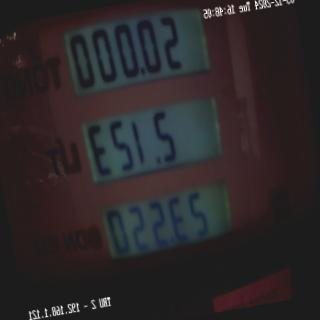screen: (54, 0, 250, 294)
